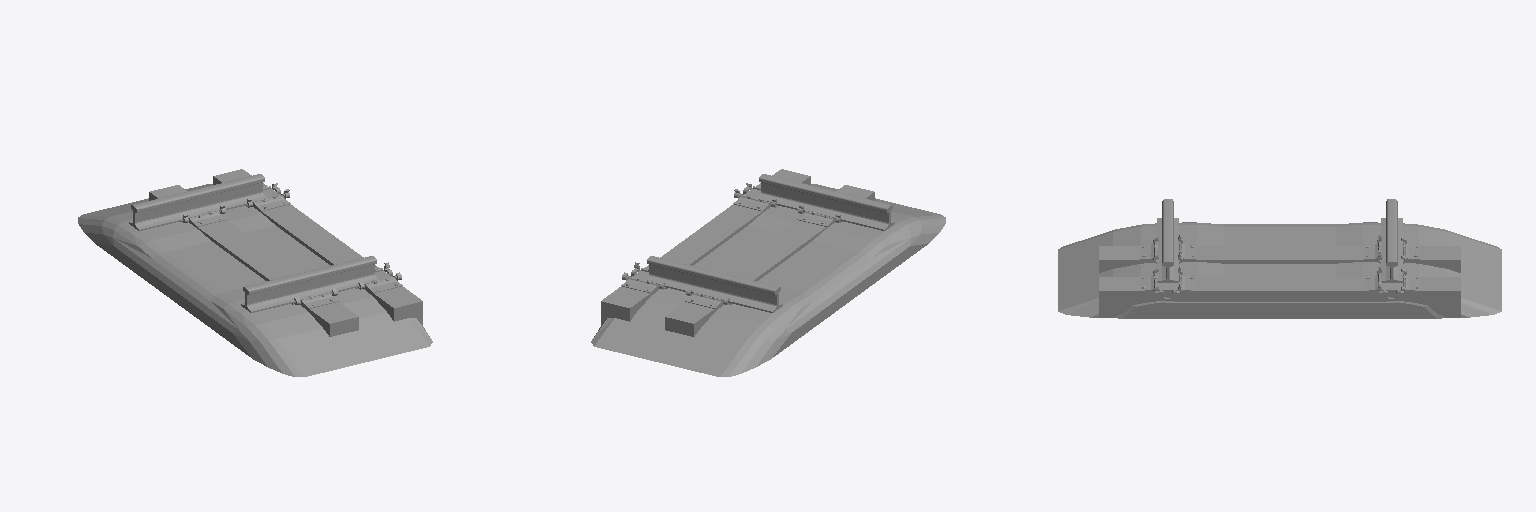
The model's file is darkoak_ballast.obj.
The picture shows the model from 3 angles: view 1: azimuth 30°, elevation 25°; view 2: azimuth 150°, elevation 25°; view 3: azimuth 270°, elevation 25°; orthographic projection.
Parts seen in each view (by area): view 1: RAIL_BASE.001_Plane.001, RAIL_BASE_Plane, RAIL_LEFT_Cube.002, RAIL_RIGHT_Cube.010; view 2: RAIL_BASE.001_Plane.001, RAIL_BASE_Plane, RAIL_RIGHT_Cube.010, RAIL_LEFT_Cube.002; view 3: RAIL_BASE.001_Plane.001, RAIL_BASE_Plane, RAIL_LEFT_Cube.002, RAIL_RIGHT_Cube.010.
Boxes of the visible parts, x1=… form: RAIL_BASE.001_Plane.001: x1=78, y1=184, x2=432, y2=376; RAIL_BASE_Plane: x1=149, y1=169, x2=422, y2=336; RAIL_LEFT_Cube.002: x1=241, y1=256, x2=379, y2=312; RAIL_RIGHT_Cube.010: x1=129, y1=174, x2=267, y2=230; RAIL_BASE.001_Plane.001: x1=591, y1=184, x2=945, y2=376; RAIL_BASE_Plane: x1=601, y1=169, x2=874, y2=336; RAIL_RIGHT_Cube.010: x1=644, y1=256, x2=782, y2=312; RAIL_LEFT_Cube.002: x1=756, y1=174, x2=894, y2=230; RAIL_BASE.001_Plane.001: x1=1058, y1=222, x2=1501, y2=318; RAIL_BASE_Plane: x1=1099, y1=235, x2=1460, y2=317; RAIL_LEFT_Cube.002: x1=1157, y1=199, x2=1178, y2=282; RAIL_RIGHT_Cube.010: x1=1381, y1=199, x2=1402, y2=282.
Size of the model in its own units: 1.29 by 0.3683 by 3.